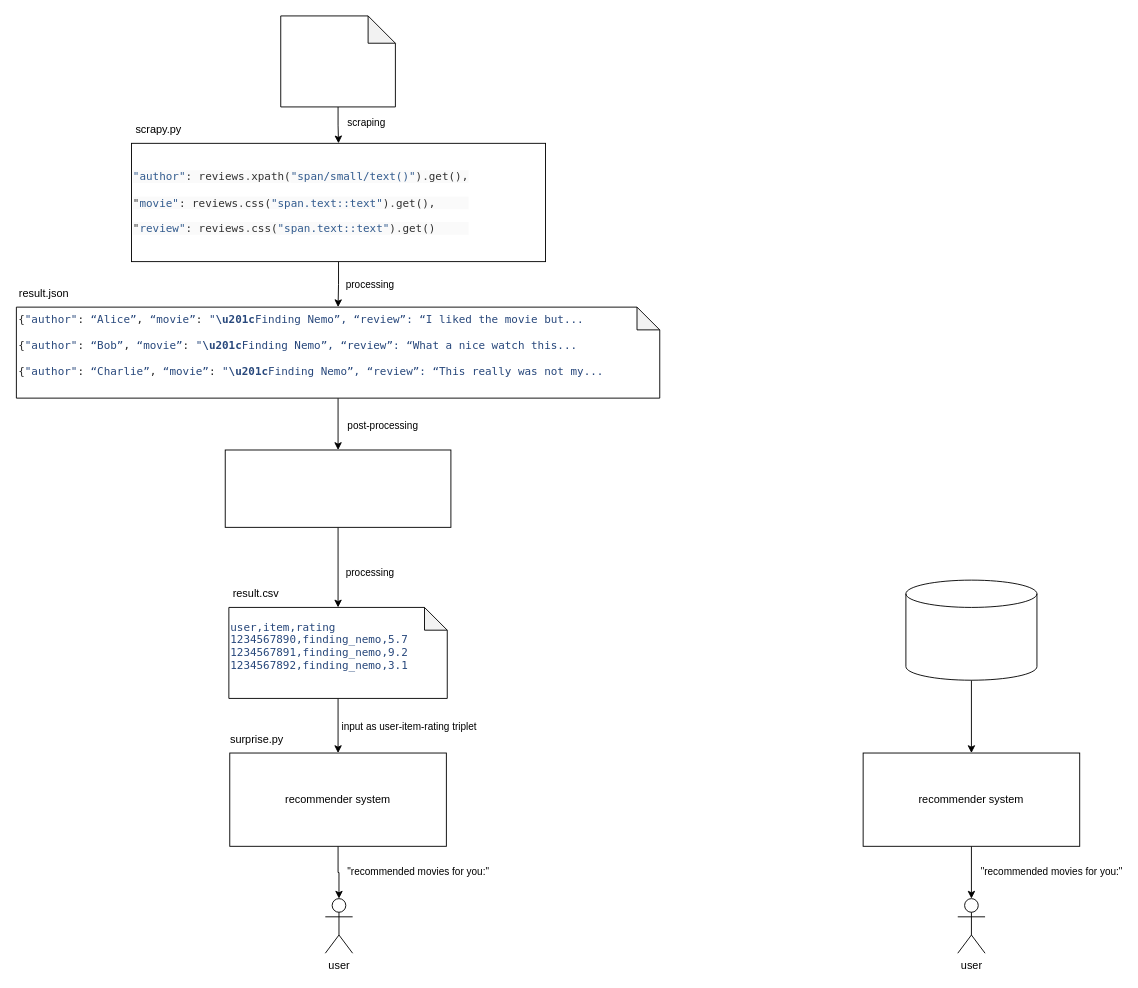
Image size: 1138x988. Some labels were removed from this diagram. Each missing label, with the box of its shape:
in-house data: (905, 579, 1037, 680)
movie_reviews.html: (280, 15, 395, 107)
NLP/LLM Magic: (224, 449, 451, 527)
